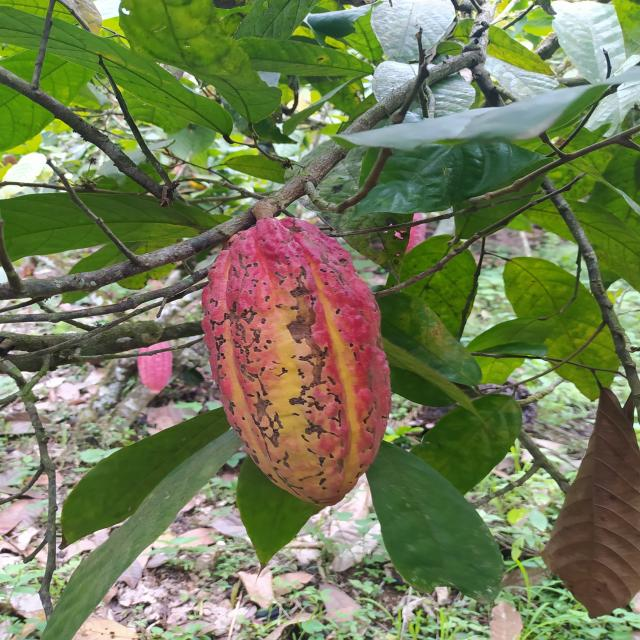Sana: (200, 216, 394, 507), (136, 336, 174, 393)
